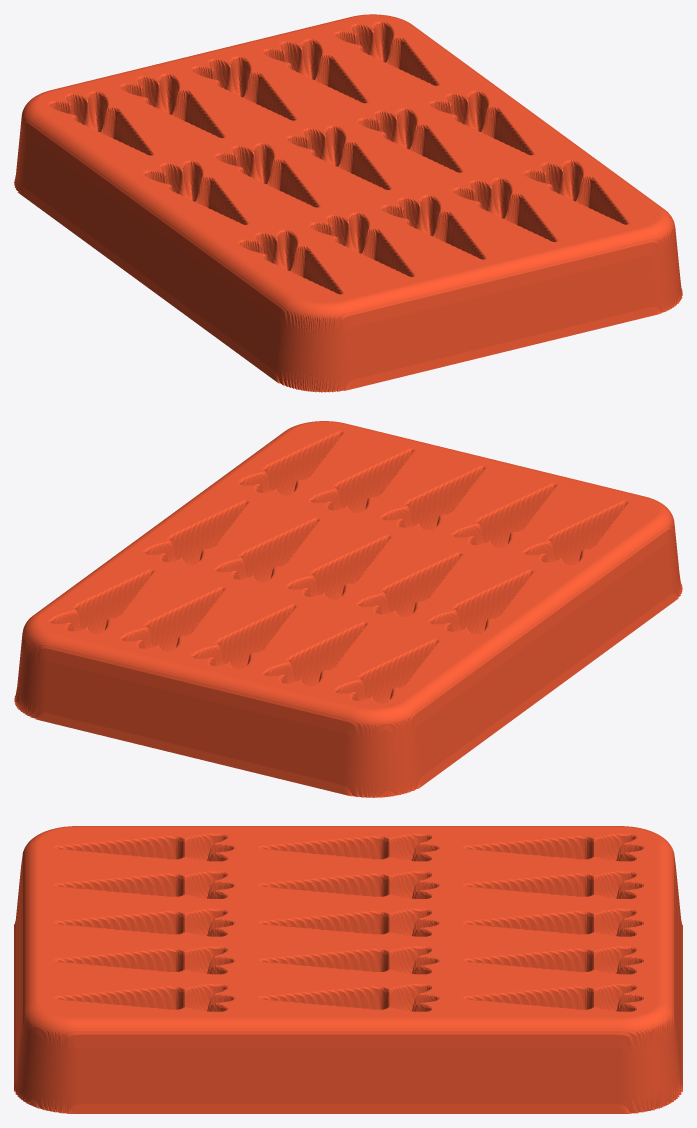
The model's file is mold.glb.
The picture shows the model from 3 angles, top to bottom: view 1: azimuth 30°, elevation 25°; view 2: azimuth 150°, elevation 25°; view 3: azimuth 270°, elevation 25°; orthographic projection. The views are drawn at different scales.
Parts seen in each view (by area): view 1: geometry_0; view 2: geometry_0; view 3: geometry_0.
Boxes of the visible parts, x1,y1,x2,y2 form: geometry_0: (14,14,682,392); geometry_0: (14,421,682,797); geometry_0: (14,826,682,1113).
Bounding box in the file's own units: 0.0722 × 0.0136 × 0.0966.
